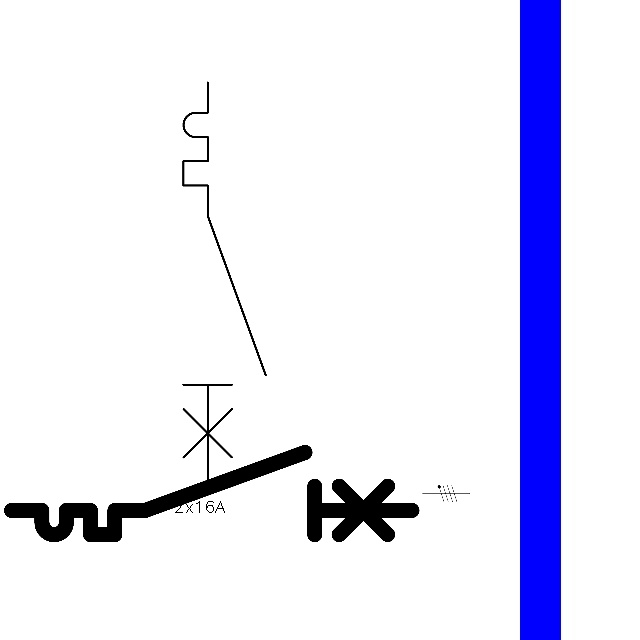interruptor_termomagnetico: (1, 442, 423, 545), (173, 72, 276, 492)
